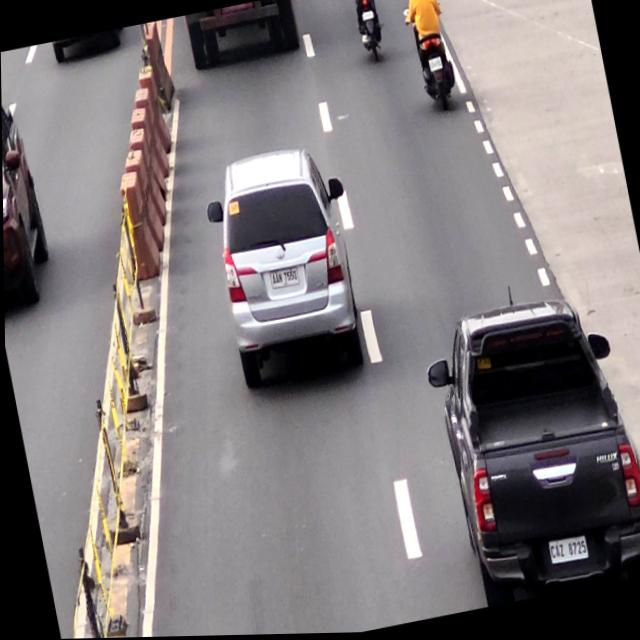Car: (428, 291, 640, 610), (208, 146, 363, 379)
License-Plate: (542, 536, 591, 574), (268, 263, 300, 291)
Motorcycle: (405, 0, 453, 109), (348, 0, 393, 64)
